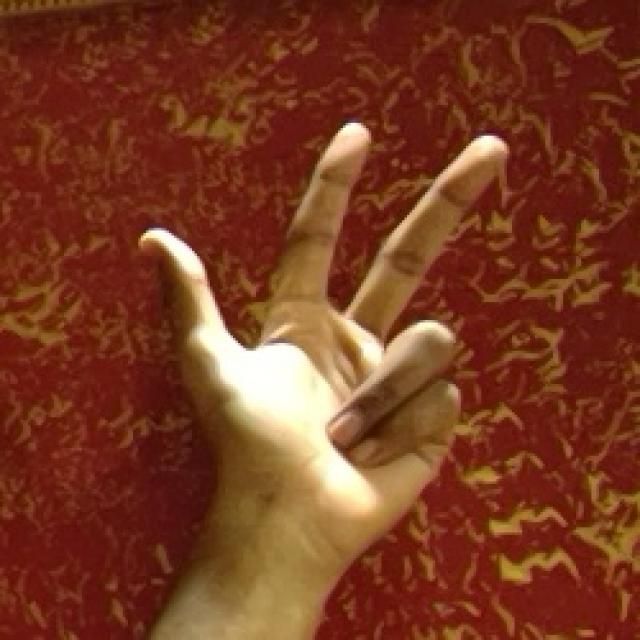Numeric-3: (138, 118, 512, 553)
